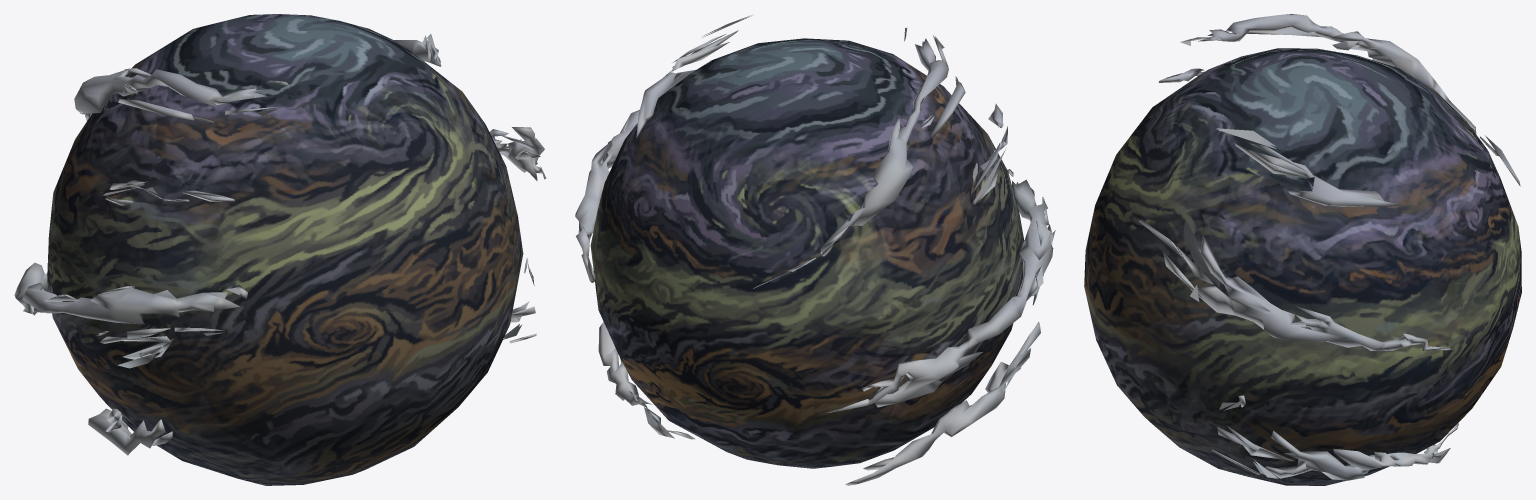
Rendered from planet_stormbound_orb.glb.
3 renders of one model, left to right at view 1: azimuth 30°, elevation 25°; view 2: azimuth 150°, elevation 25°; view 3: azimuth 270°, elevation 25°, orthographic. The views are drawn at different scales.
Bounding box in the file's own units: 0.9536 × 0.8301 × 0.8174.
Materials: 1 (1 with a texture image).
